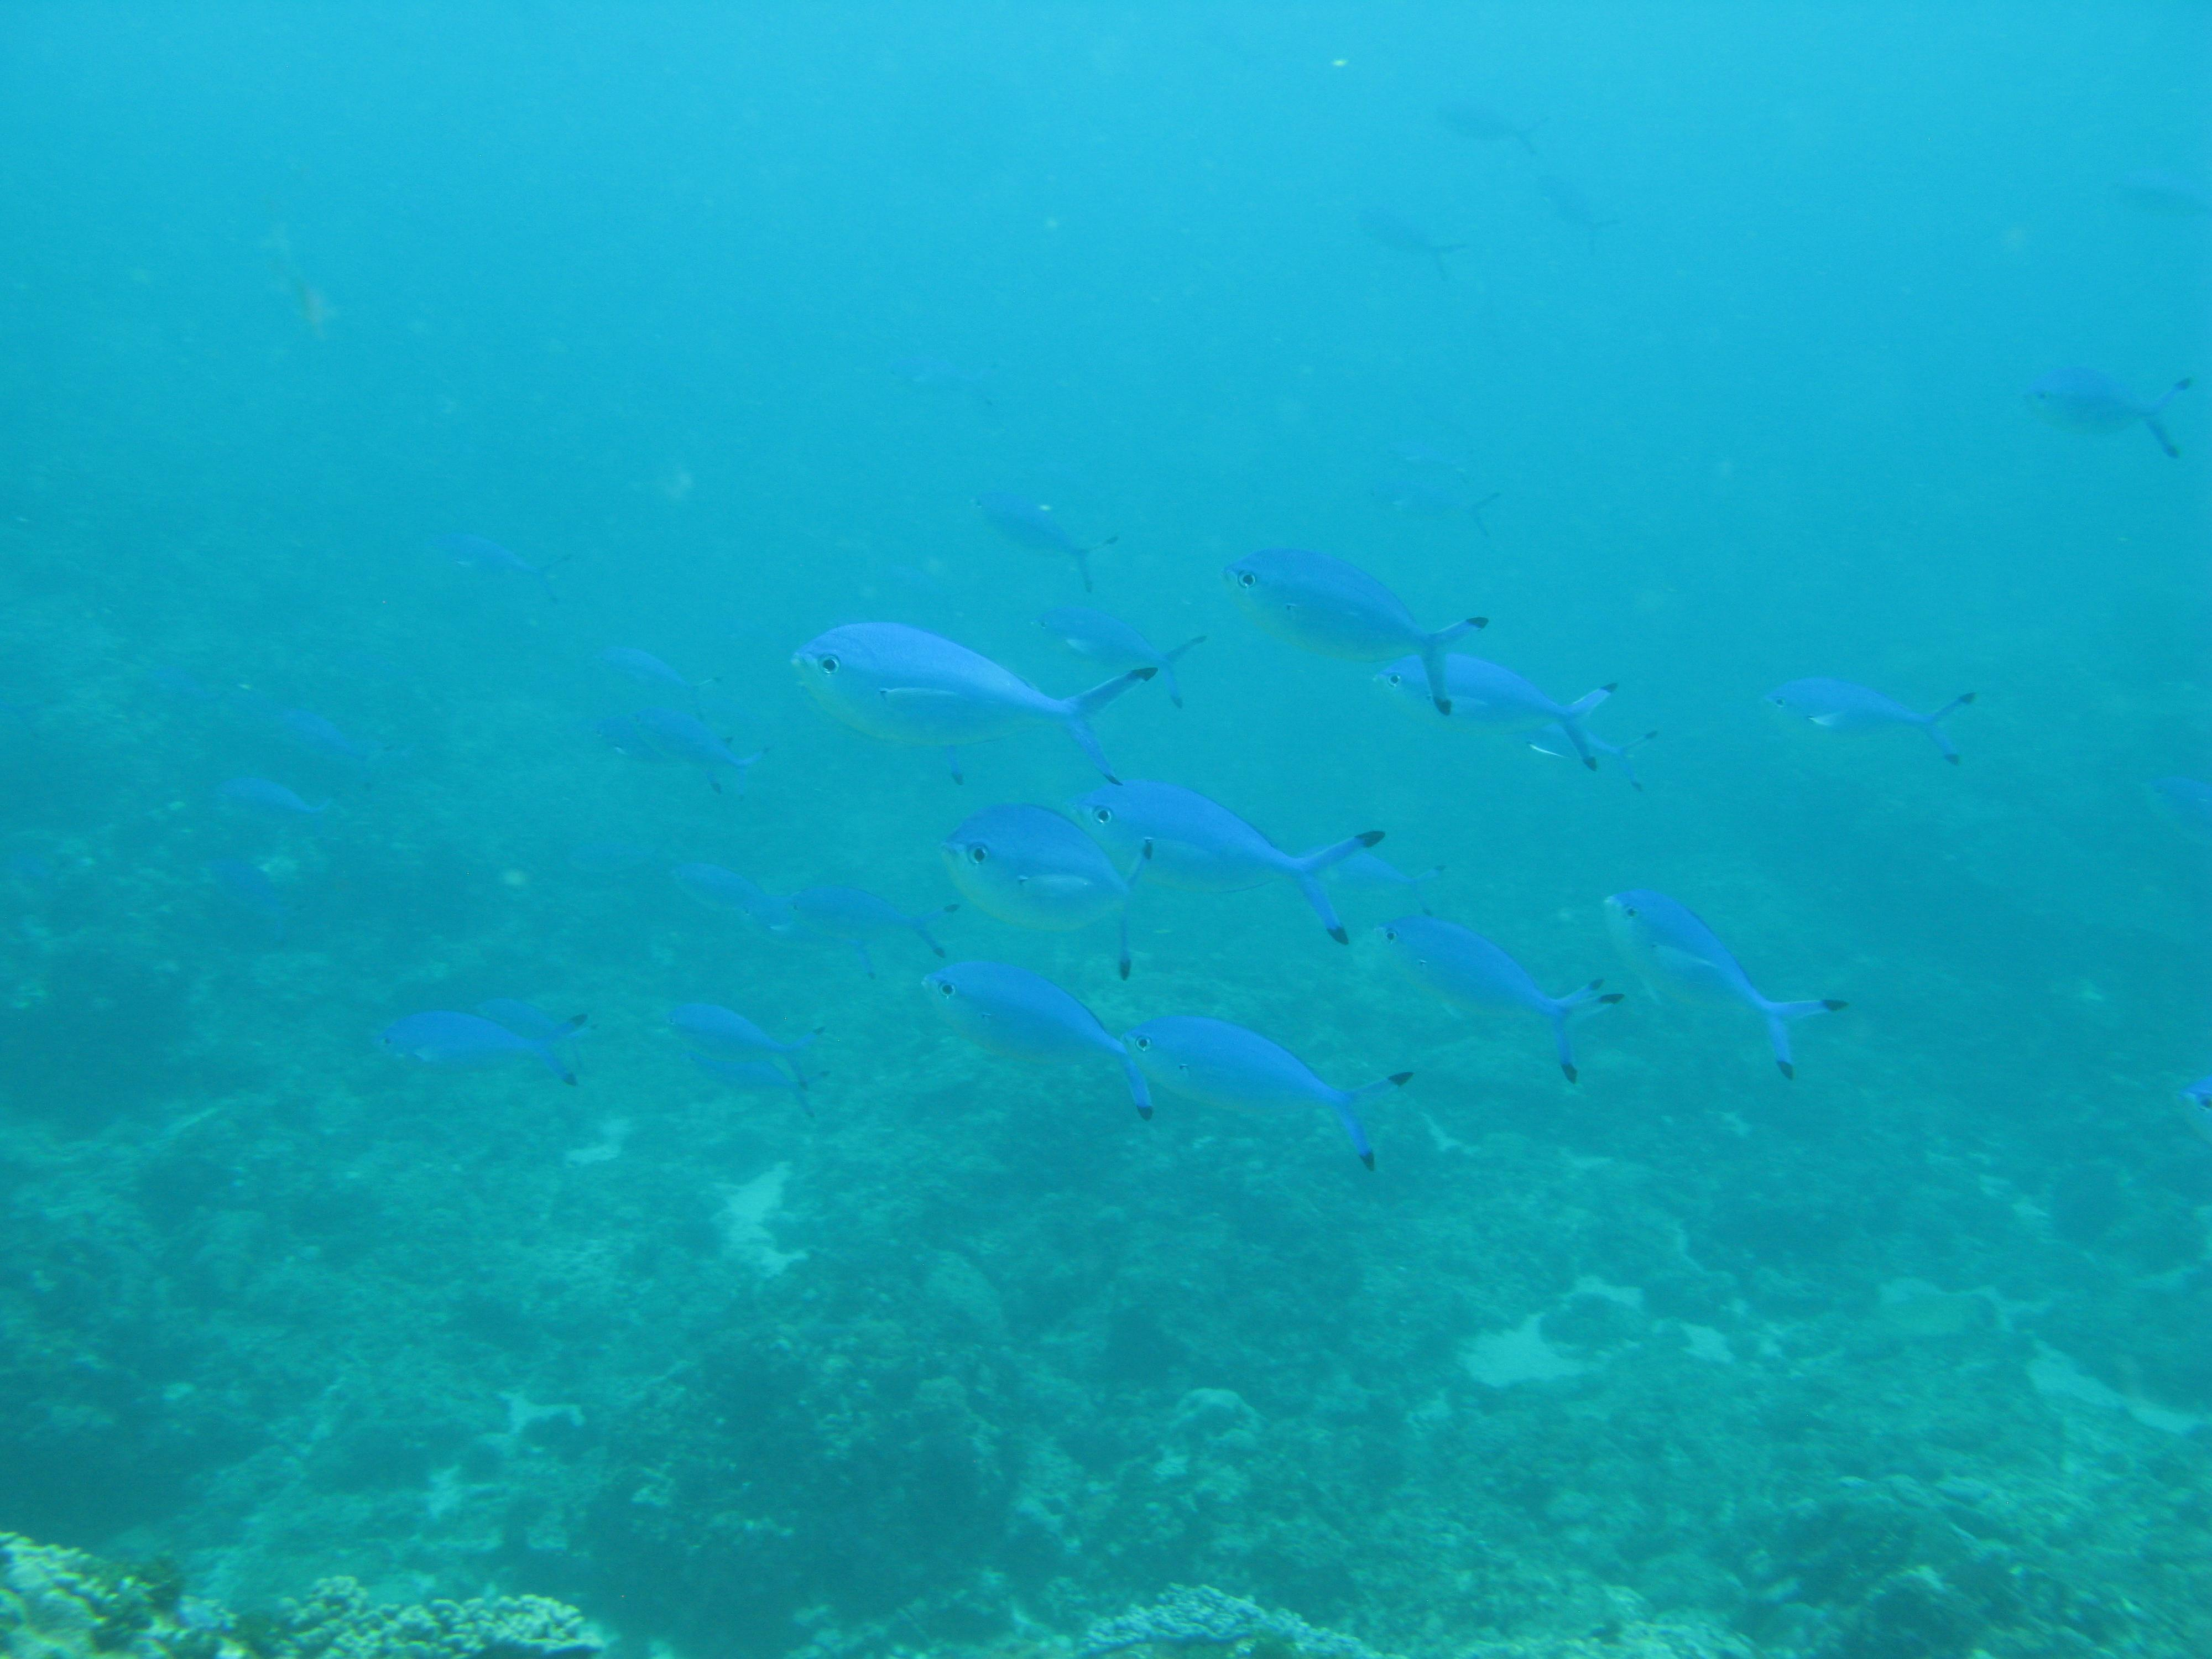Caesio lunaris: (381, 911, 570, 969)
